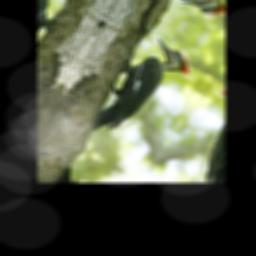Woodpecker: (84, 31, 199, 157)
